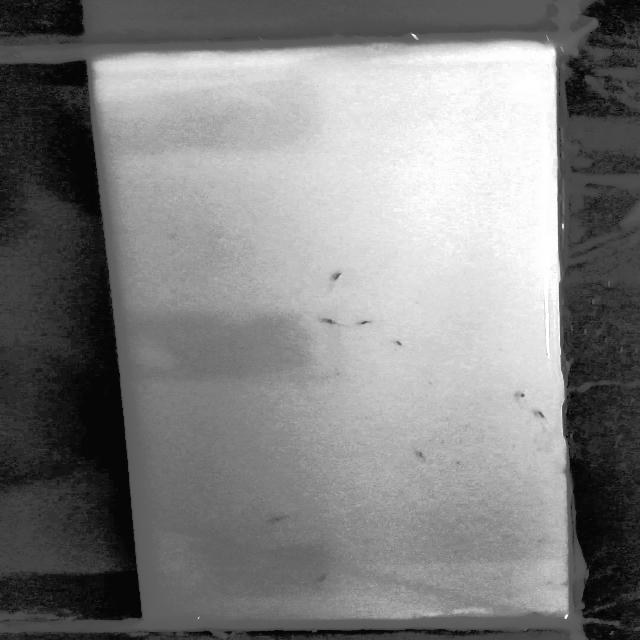shrimp: (255, 511, 307, 527), (304, 566, 340, 588), (346, 312, 386, 331), (317, 267, 354, 284), (503, 387, 532, 404), (530, 408, 556, 426), (387, 336, 418, 350), (314, 317, 342, 329)
